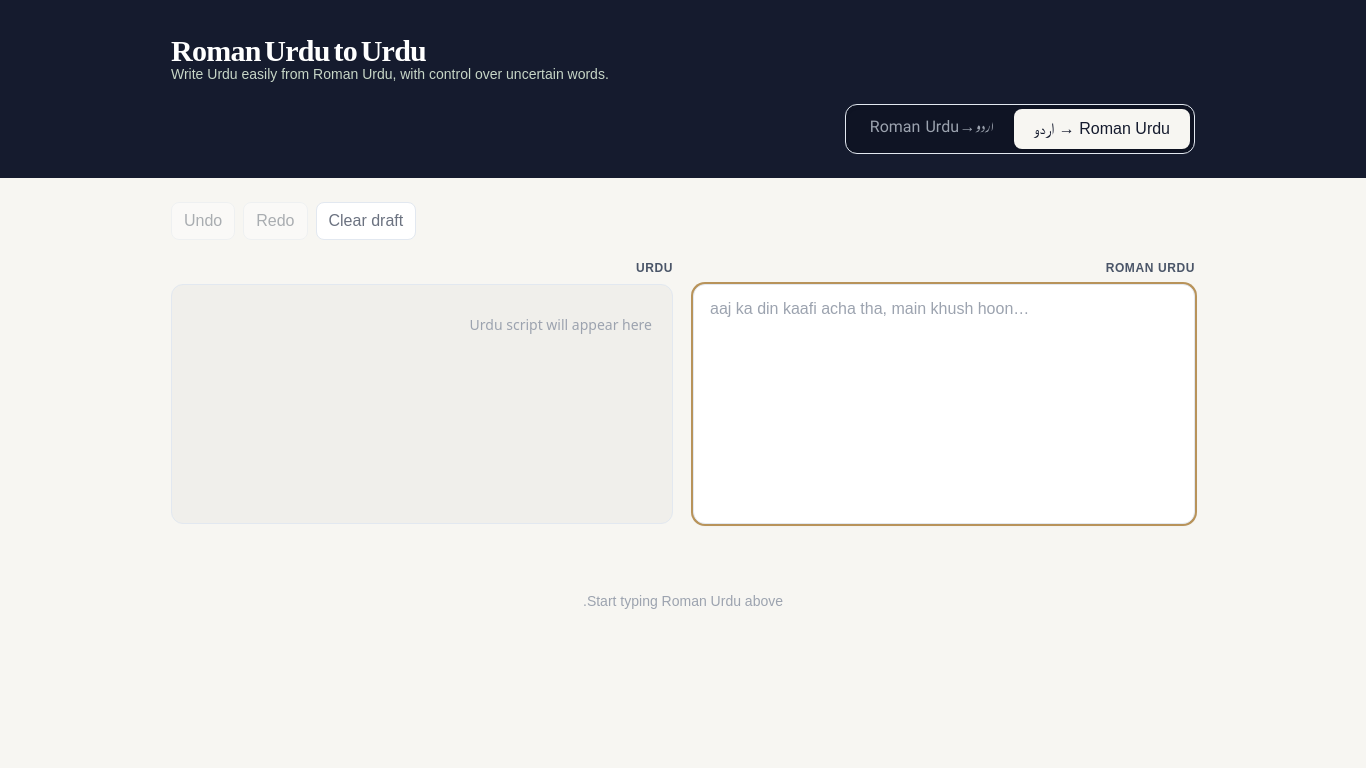
Scenario: action area groups continuation and export actions
The image size is (1366, 768).
In the text box with id "roman-input": (944, 404) 693,284 -> 1195,524, type "aaj theek hai"
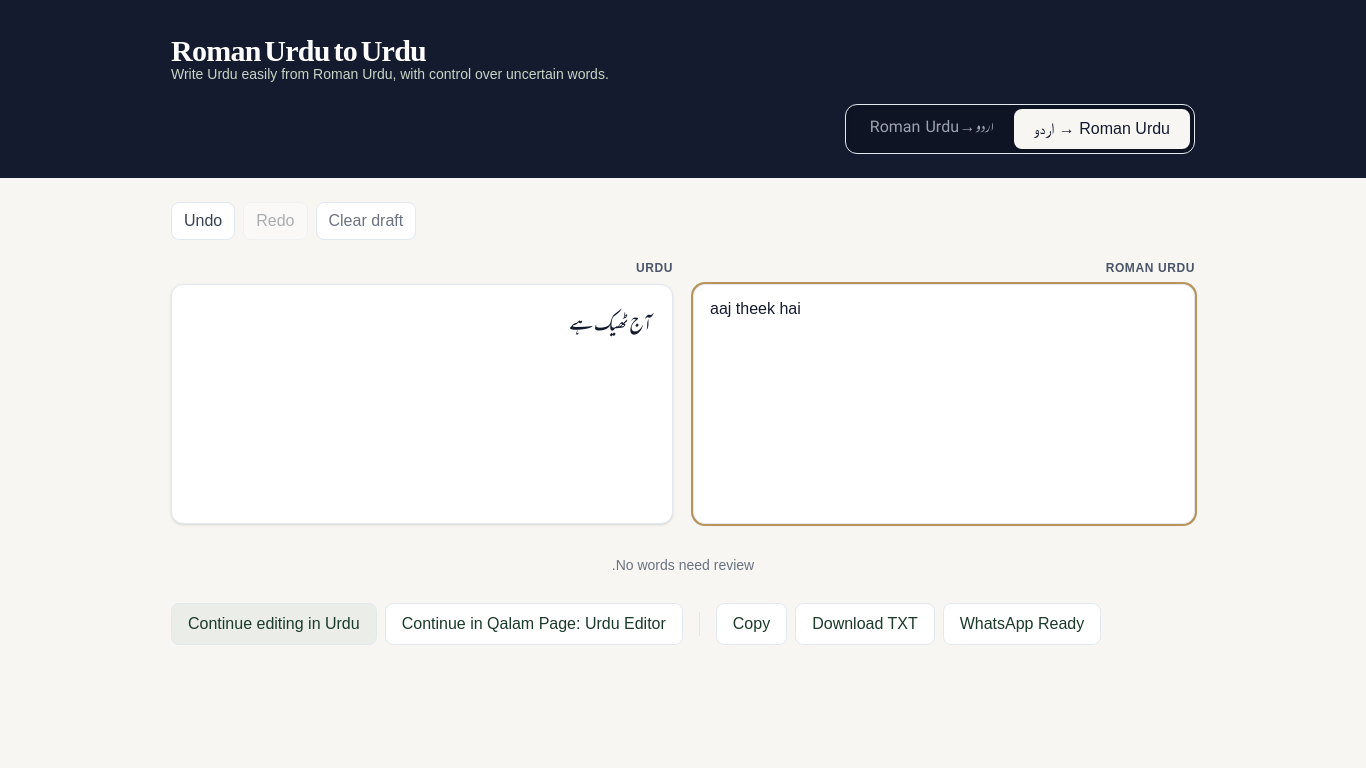
Expected: the element with test id "writer-action-bar" is shown, 171,603 -> 1195,645
Expected: the element with test id "writer-action-group-continue" is shown, 171,603 -> 683,645
Expected: the element with test id "writer-action-group-export" is shown, 716,603 -> 1101,645
